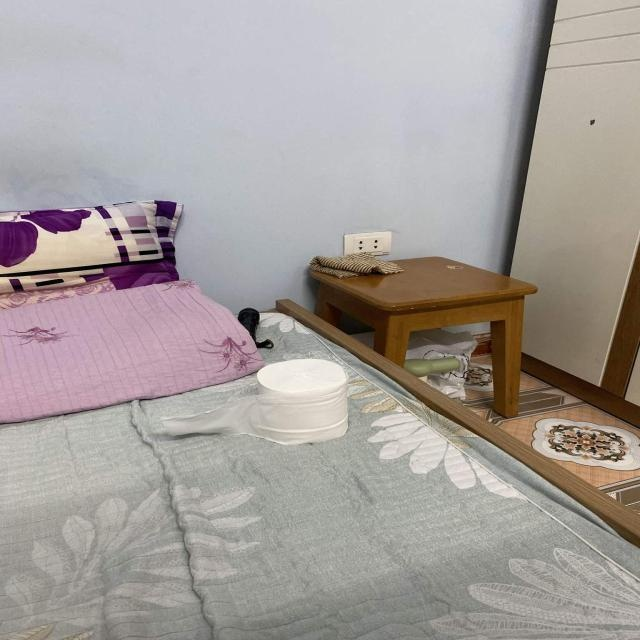outlet: (343, 231, 392, 257)
